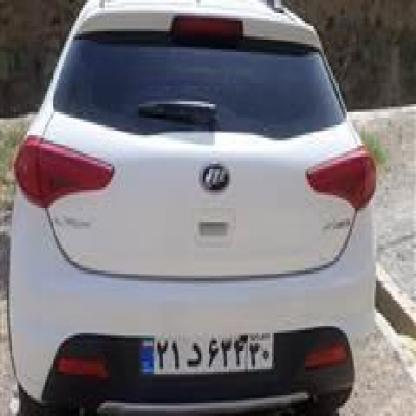Car: (0, 0, 376, 416)
